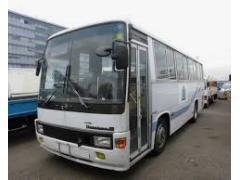bus: (31, 17, 205, 171)
